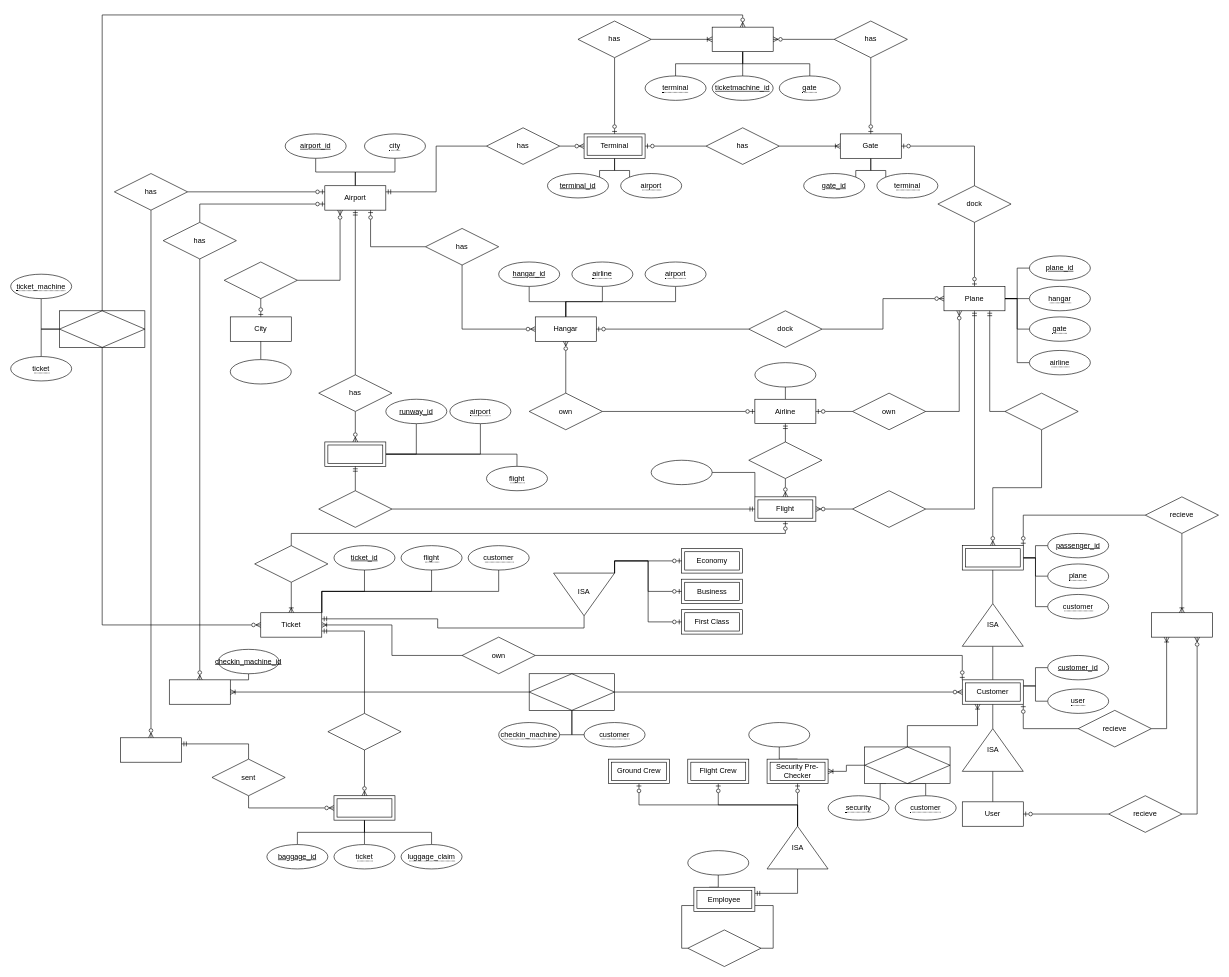
The diagram is 1229 pixels wide and 977 high, and some of its shapes have lost their labels. The shapes that lost their labels are listed below. From the top down, each one's centre as x and y in pixels, then its label:
the point at 742,39: Ticket Machine
the point at 260,280: located
the point at 102,328: Ticket Scanned
the point at 260,371: city_id
the point at 785,374: airline_id
the point at 1041,411: board
the point at 355,453: Runway
the point at 681,472: flight_id
the point at 785,460: operate
the point at 355,508: take off / land
the point at 889,508: accociate
the point at 291,563: issue
the point at 992,557: Passenger
the point at 1181,624: Notification
the point at 199,691: Check-in Machine
the point at 572,691: Checked-in
the point at 150,749: Luggage Claim Belt
the point at 364,731: tied
the point at 779,734: security_id
the point at 907,765: Security Approved
the point at 364,807: Baggage
the point at 718,862: employee_id
the point at 724,948: manage
